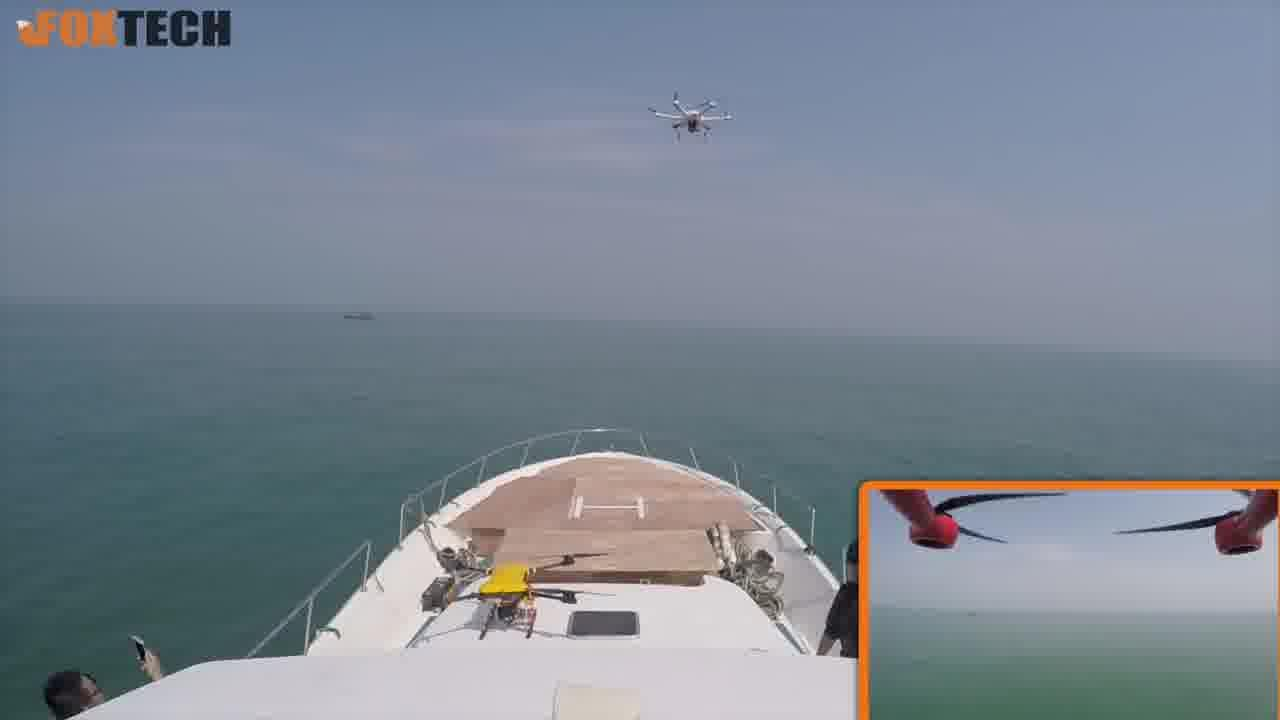drone: (646, 80, 736, 144)
